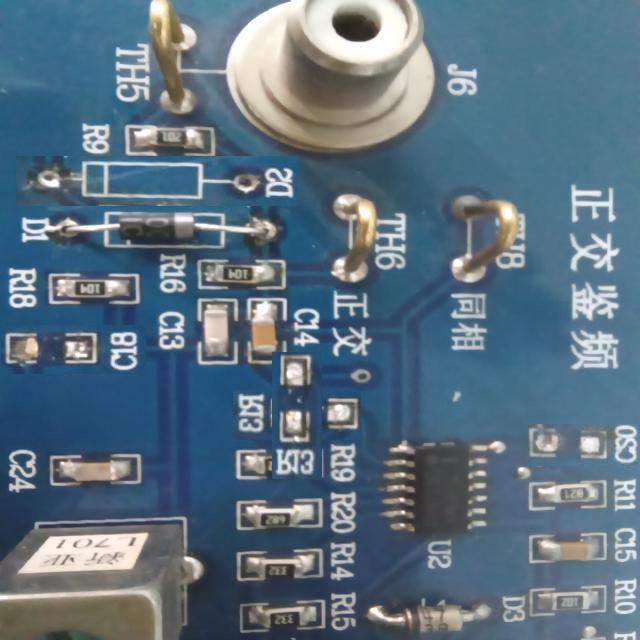miss_welding: (17, 156, 298, 206), (252, 371, 342, 459), (0, 324, 146, 374), (528, 424, 638, 466)
